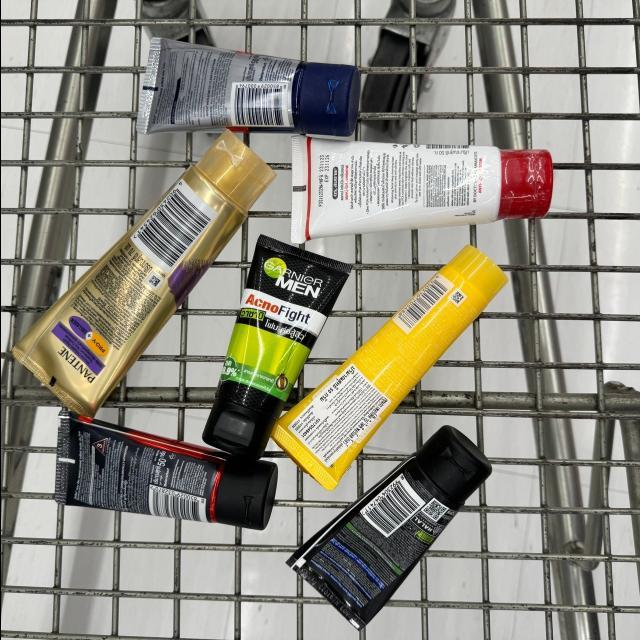Squeeze Tube: (5, 126, 284, 419), (272, 236, 514, 497), (283, 419, 506, 633), (194, 235, 355, 459), (283, 137, 556, 256), (48, 406, 291, 538), (132, 32, 376, 140)
